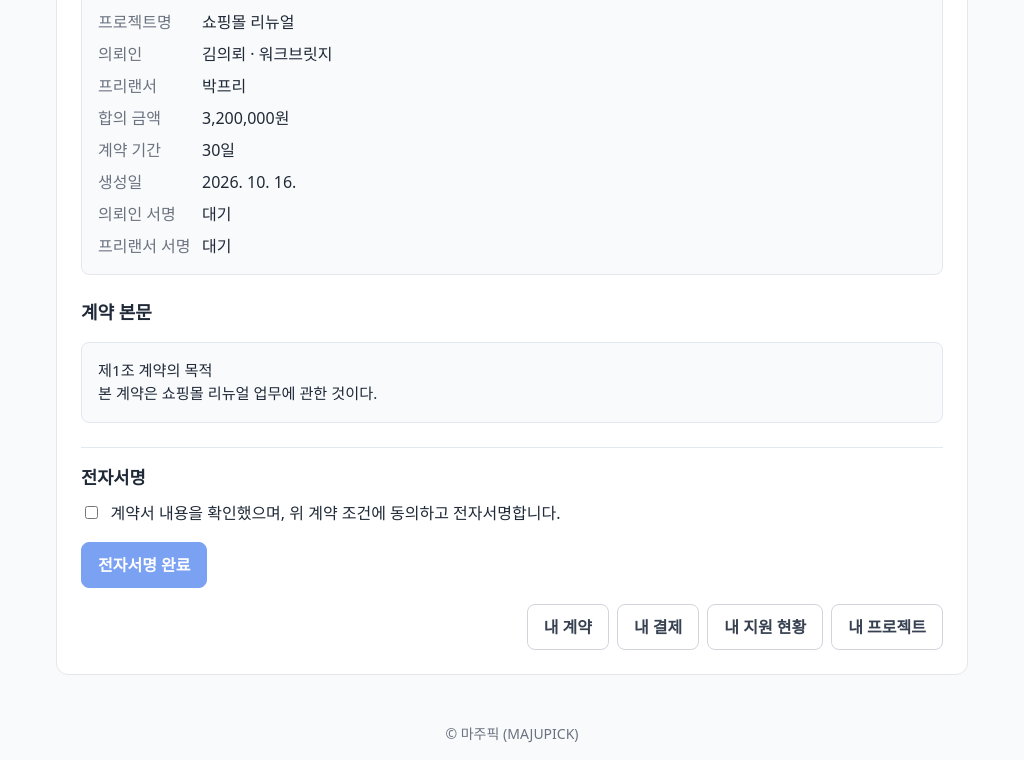
Test case: contract signature UI (CTR-05) › 체크박스에 동의하기 전에는 전자서명 완료 버튼이 비활성이다
(page scrolled)
Expected: the text "계약서 내용을 확인했으며, 위 계약 조건에 동의하고 전자서명합니다." is shown, [111,502,560,526]
Expected: the button "전자서명 완료" is disabled, [81,542,208,588]
Click the checkbox. click: (92, 512)
box: [85,506,98,518]
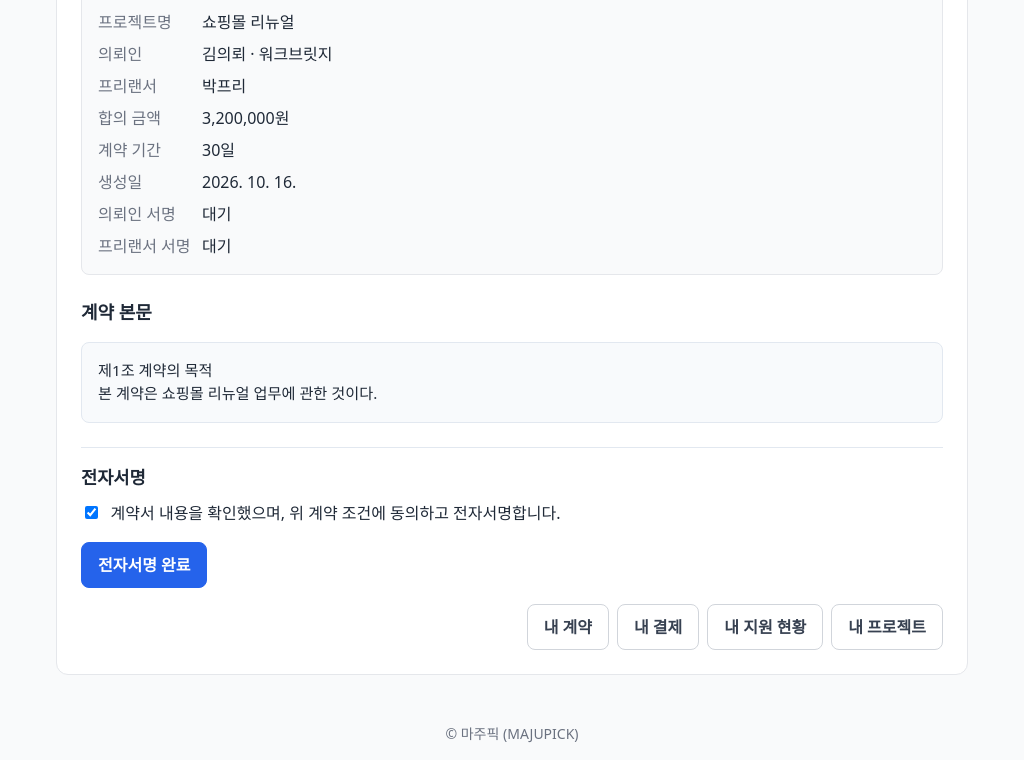
Expected: the button "전자서명 완료" is enabled, [81,542,208,588]
